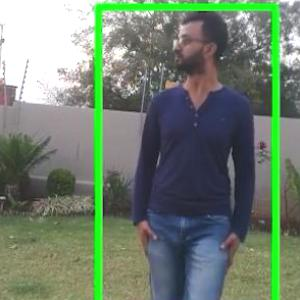follow: (84, 0, 240, 299)
